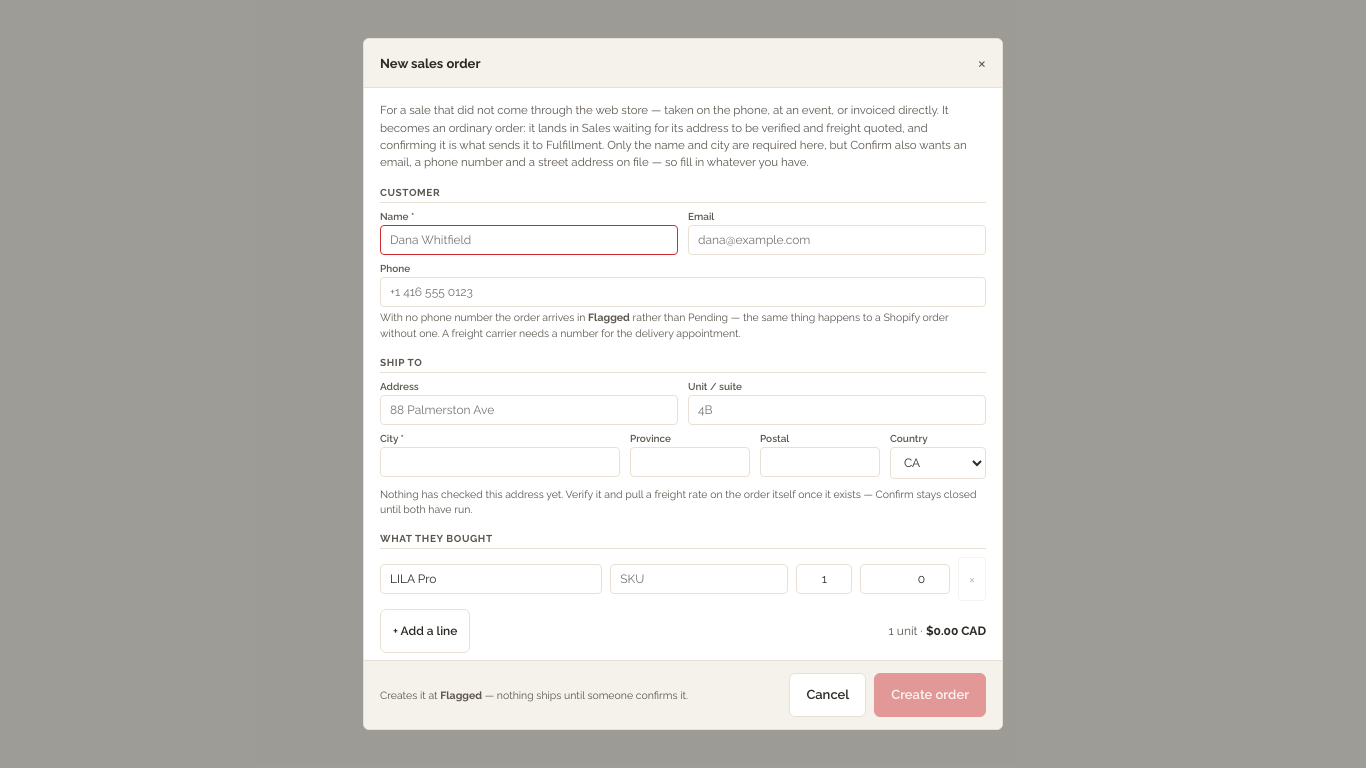
Test: NewOrderForm › totals the lines as they are typed
The width and height of the screenshot is (1366, 768).
Replace the text in the number field named "Line 1 quantity" with "2" at (824, 579), box [796, 564, 852, 594]
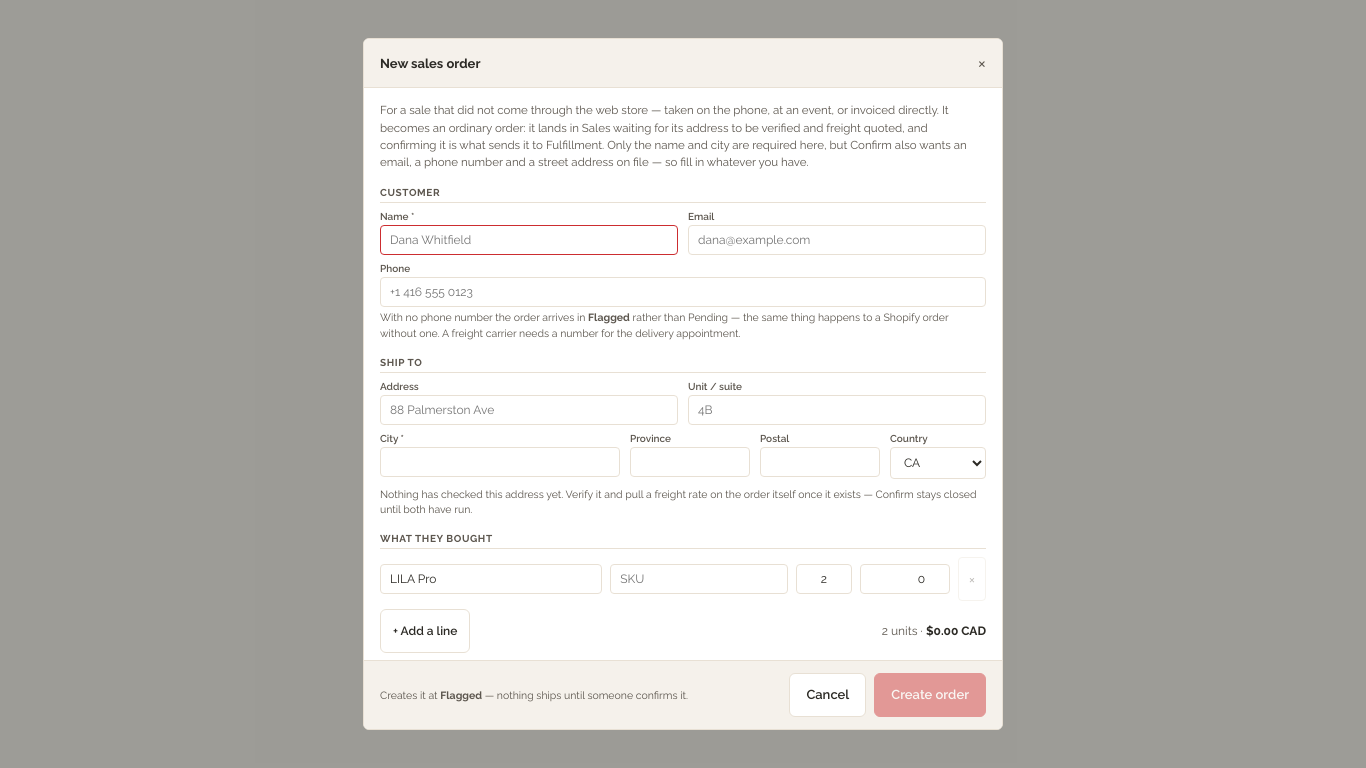
Replace the text in the number field named "Line 1 unit price" with "2499" at (905, 579), box [860, 564, 950, 594]
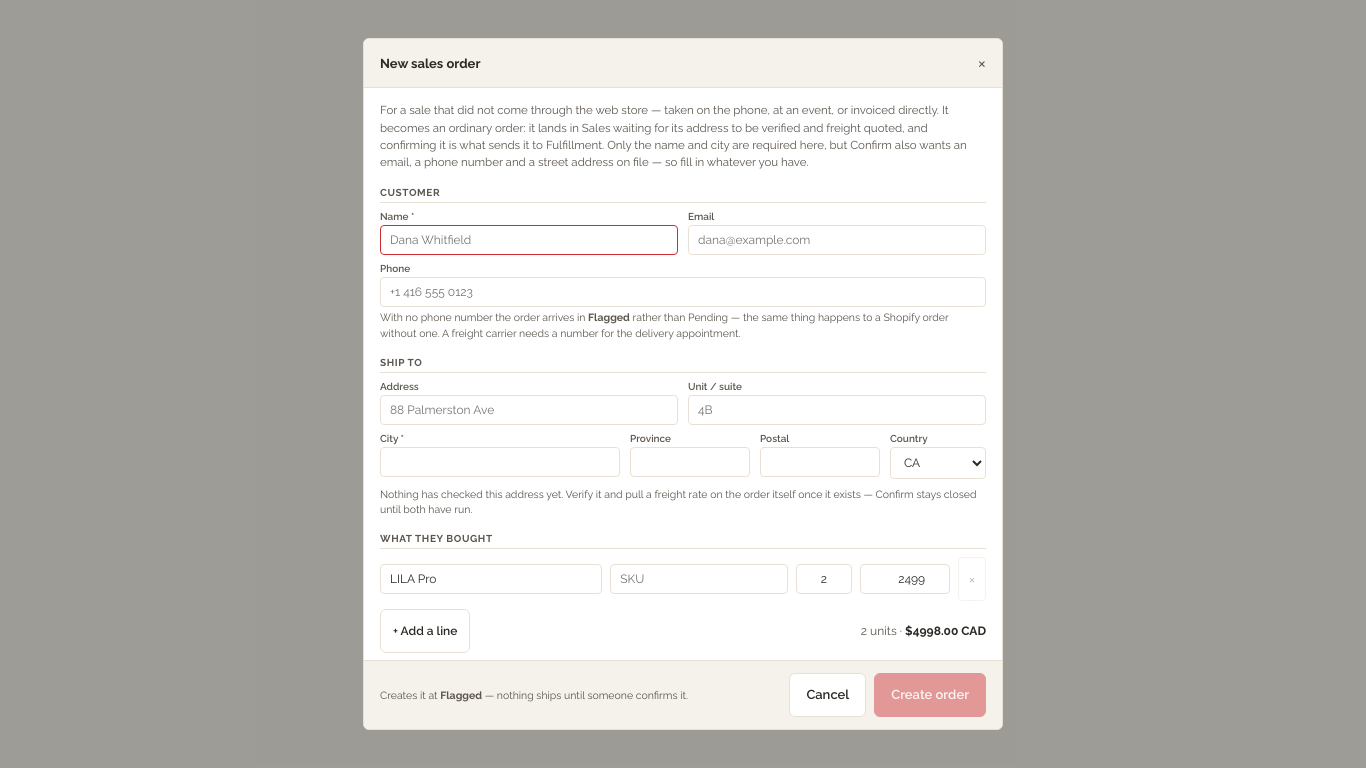
Check: the text "2 units · $4998.00 CAD" is shown, box [861, 624, 986, 638]
Check: the text "$4998.00 CAD" is shown, box [905, 624, 986, 638]
